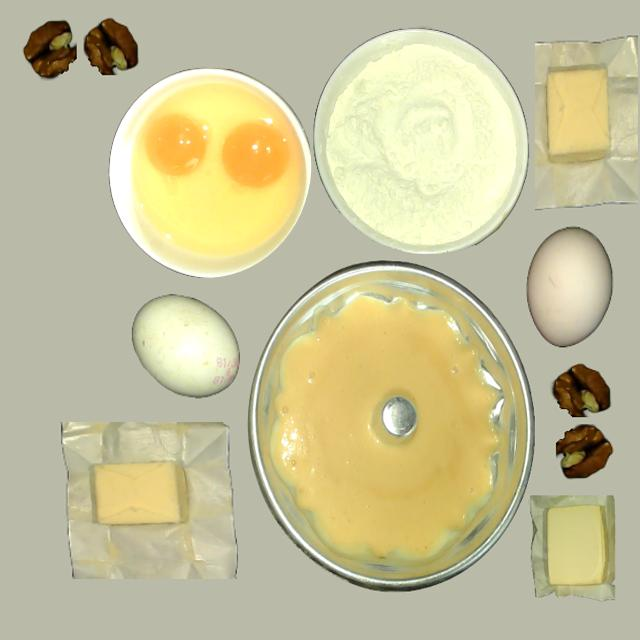Egg: (221, 120, 287, 188), (145, 114, 208, 178)
Flour: (314, 29, 528, 255)
